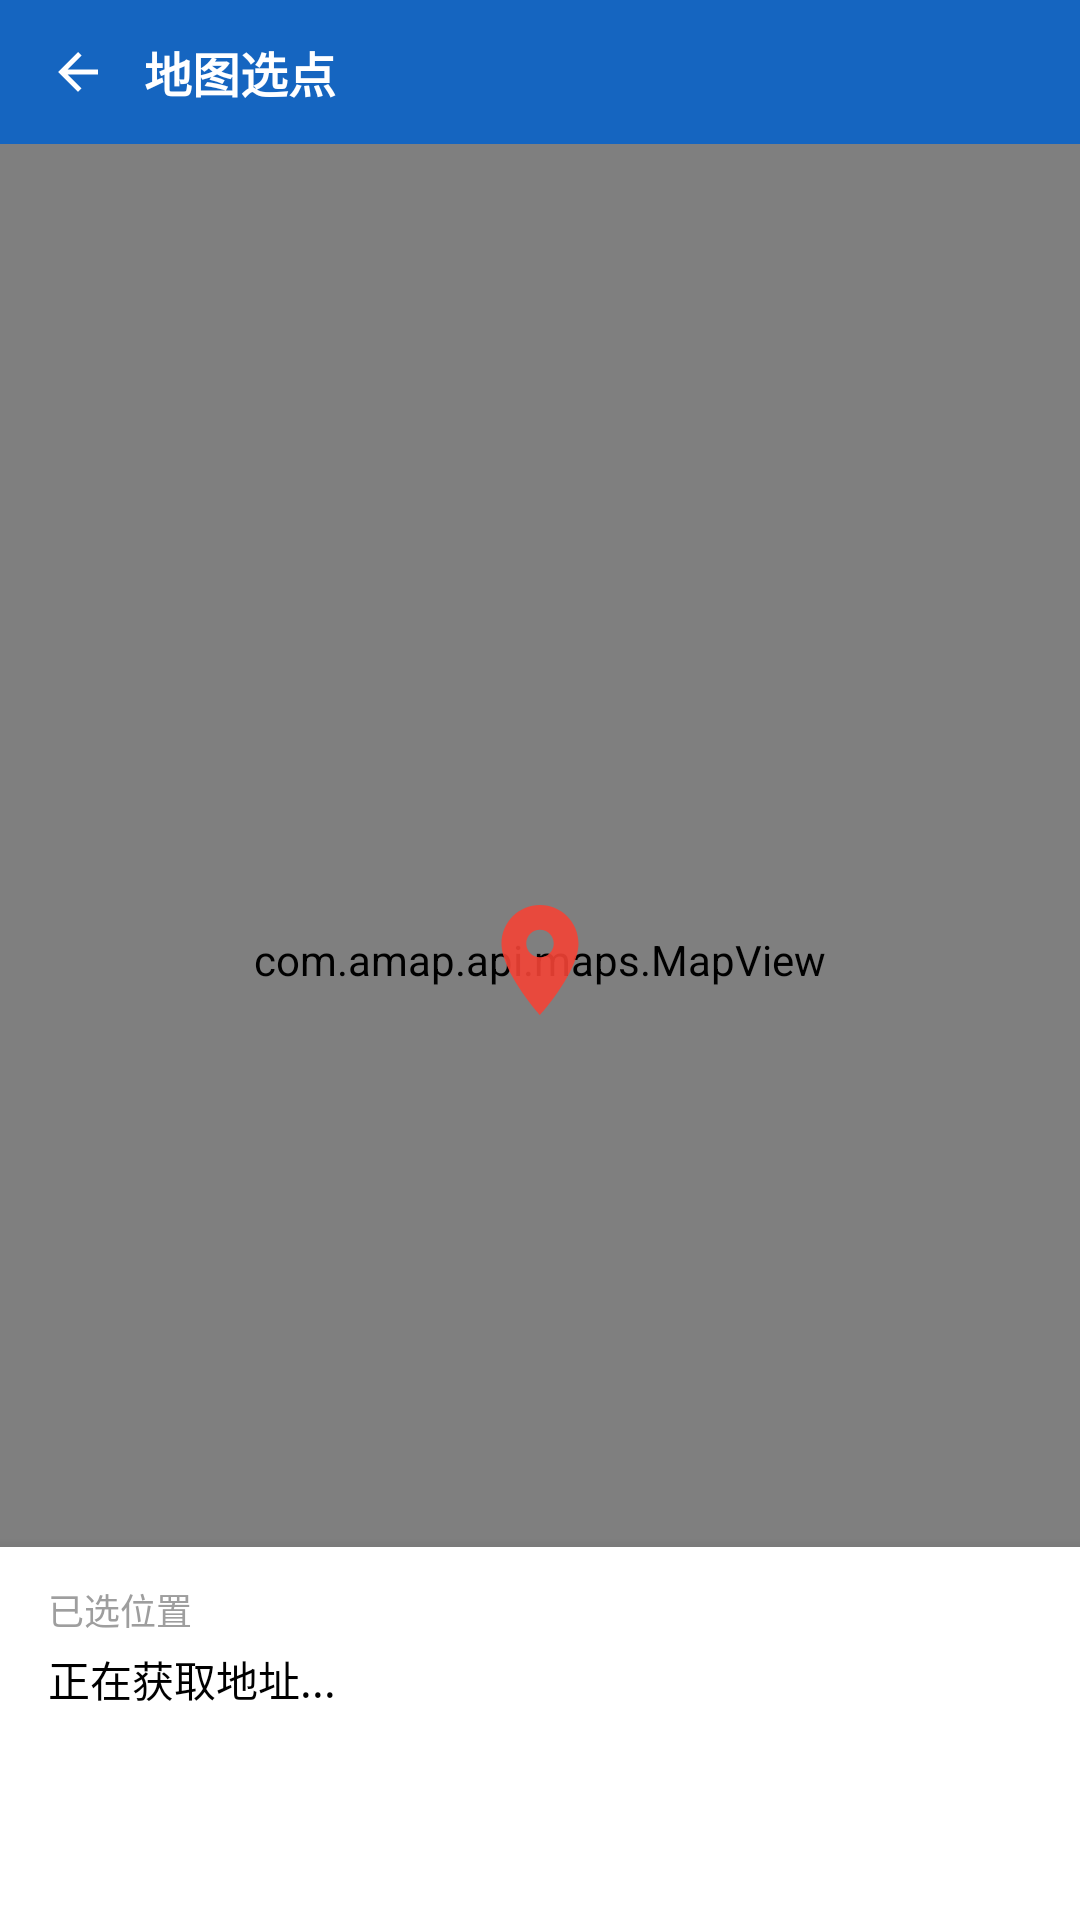

Point at icon controls on the screen. Image size 1080px×1920px, points as (x,y).
返回: (78,72)
选中位置标记: (542,960)
